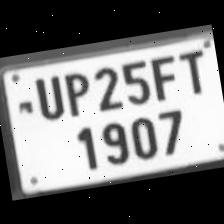0: (123, 108, 159, 162)
1: (64, 118, 102, 174)
2: (87, 60, 123, 114)
5: (114, 54, 153, 107)
7: (151, 102, 190, 159)
9: (95, 114, 131, 168)
F: (144, 49, 180, 102)
P: (57, 64, 94, 119)
T: (174, 42, 214, 98)
U: (29, 68, 66, 122)
